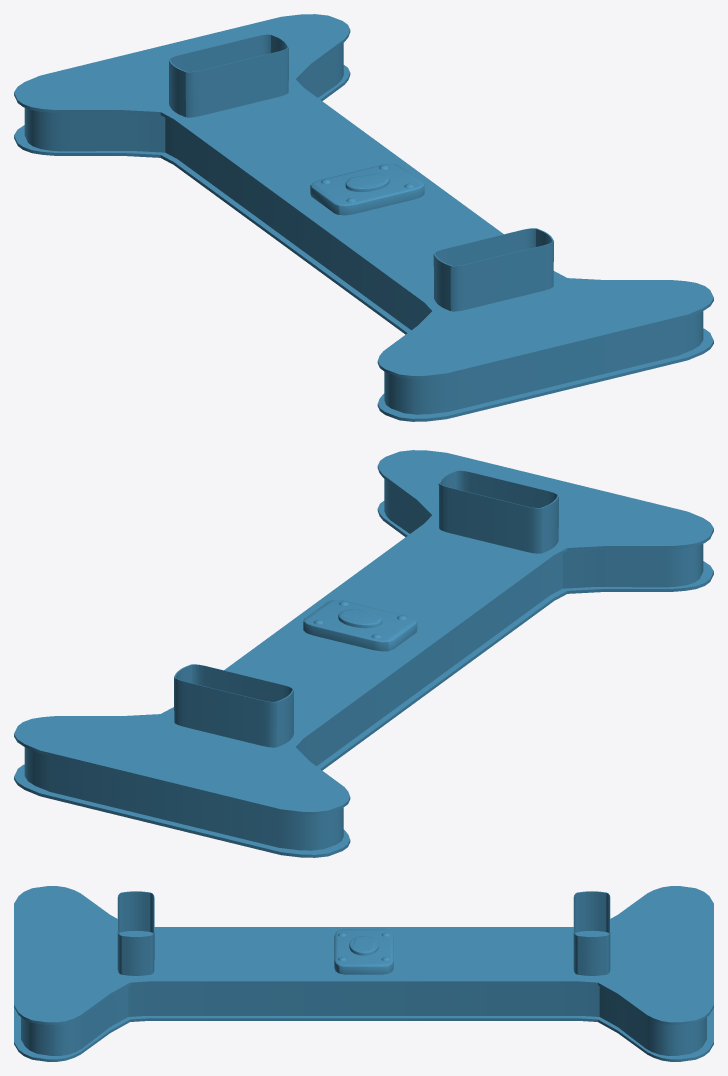
Rendered from oil.gltf.
The picture shows the model from 3 angles, top to bottom: view 1: azimuth 30°, elevation 25°; view 2: azimuth 150°, elevation 25°; view 3: azimuth 270°, elevation 25°; orthographic projection. The views are drawn at different scales.
Visible parts, largest first — view 1: Oil tank; view 2: Oil tank; view 3: Oil tank.
Boxes of the visible parts, x1,y1,x2,y2 form: Oil tank: (14,14,713,421); Oil tank: (14,450,713,857); Oil tank: (14,886,713,1061).
Bounding box in the file's own units: 0.7142 × 0.1916 × 1.55.
